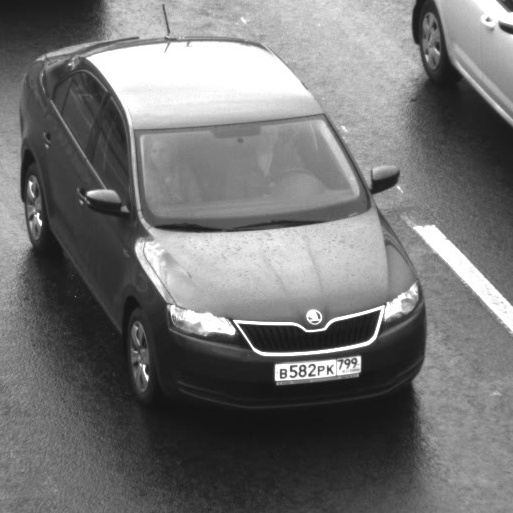plate: (261, 342, 370, 391)
